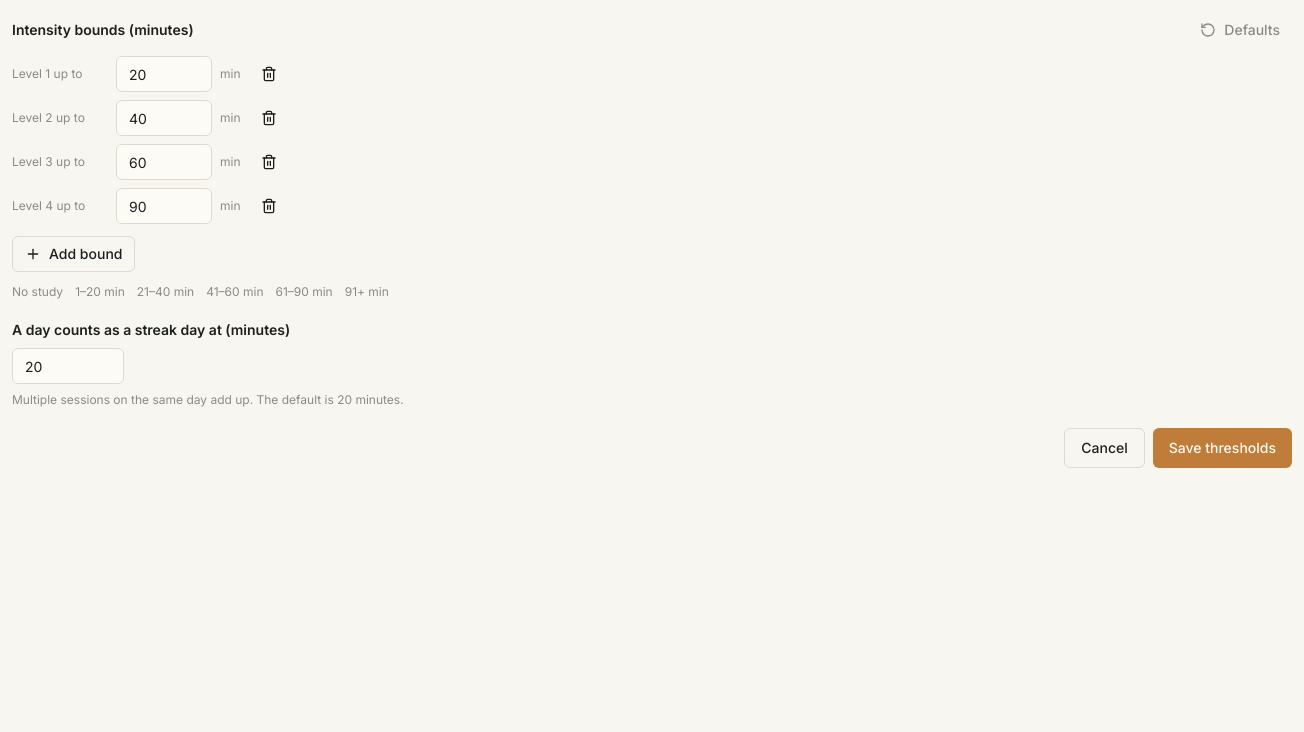
Test case: CalendarSettingsForm › explains why a bad form cannot be saved
Replace the text in the number field named "Intensity bound 1" with "0" at [164, 74], box [116,56,212,92]
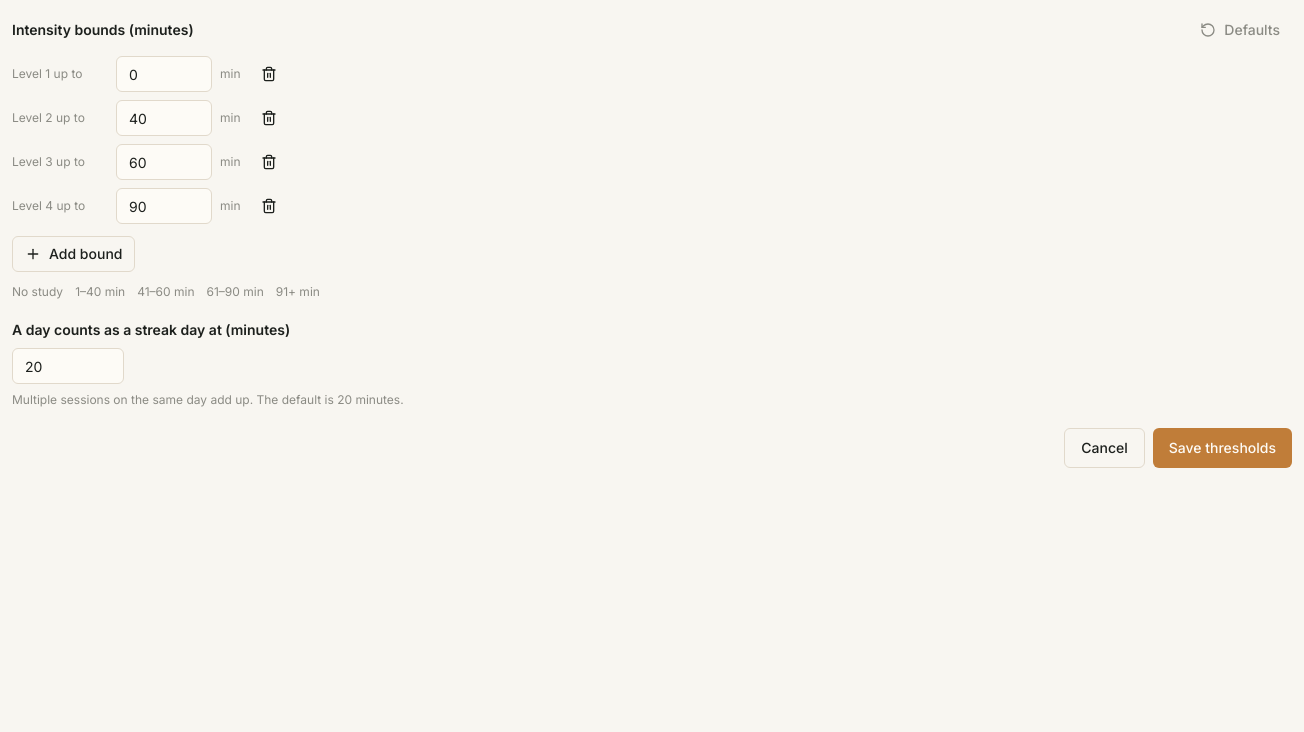
Click the button "Save thresholds" at [1222, 448], box [1153,428,1292,468]
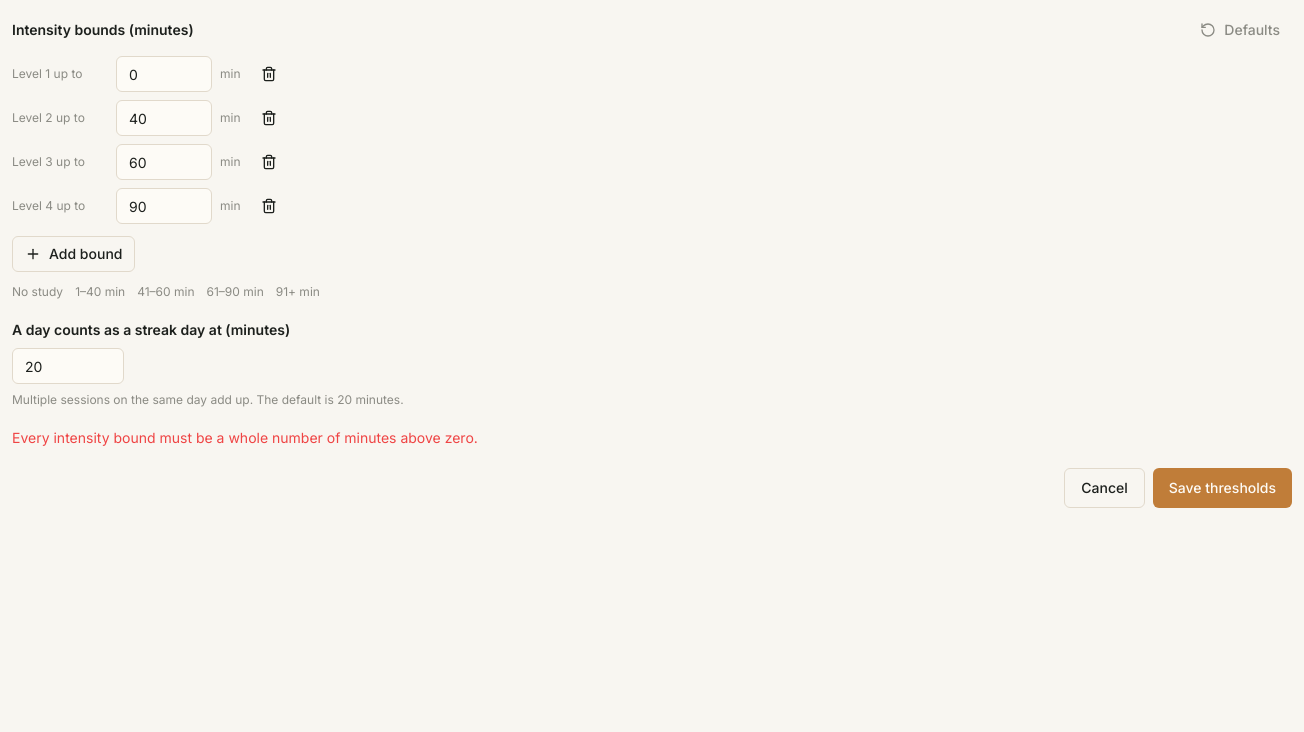
Expected: the text "whole number of minutes above zero" is shown, [12,429,478,446]
